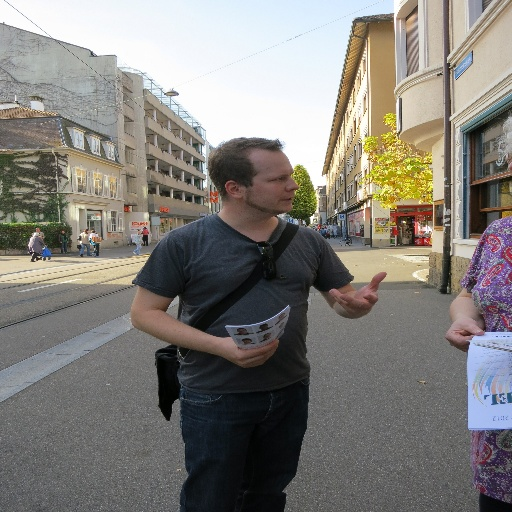hand: (331, 275, 389, 322), (221, 336, 278, 369), (441, 315, 483, 352), (87, 242, 92, 247), (58, 240, 63, 243), (140, 241, 145, 244), (65, 240, 69, 243), (43, 245, 46, 248)
